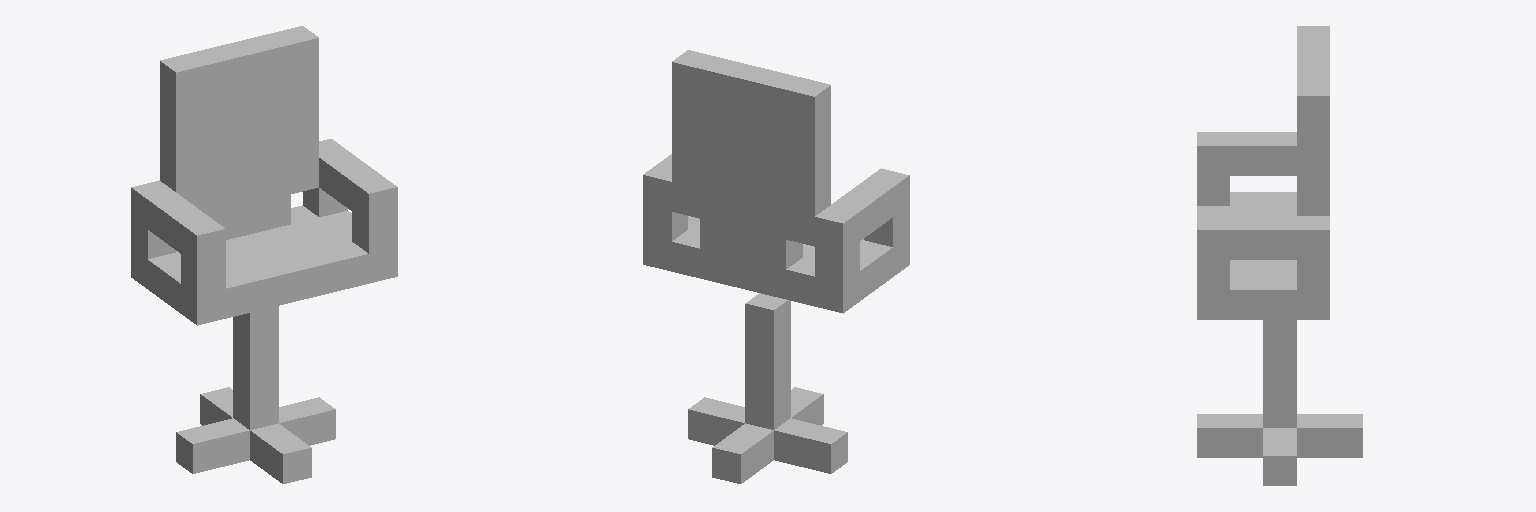
File: office chair.obj
3 renders of one model, left to right at view 1: azimuth 30°, elevation 25°; view 2: azimuth 150°, elevation 25°; view 3: azimuth 270°, elevation 25°, orthographic.
Parts seen in each view (by area): view 1: object 1; view 2: object 1; view 3: object 1.
Boxes of the visible parts, <box> form: object 1: <box>131,26,397,483</box>; object 1: <box>643,50,909,483</box>; object 1: <box>1197,26,1362,485</box>.
Size of the model in its own units: 0.7 by 1.3 by 0.5.